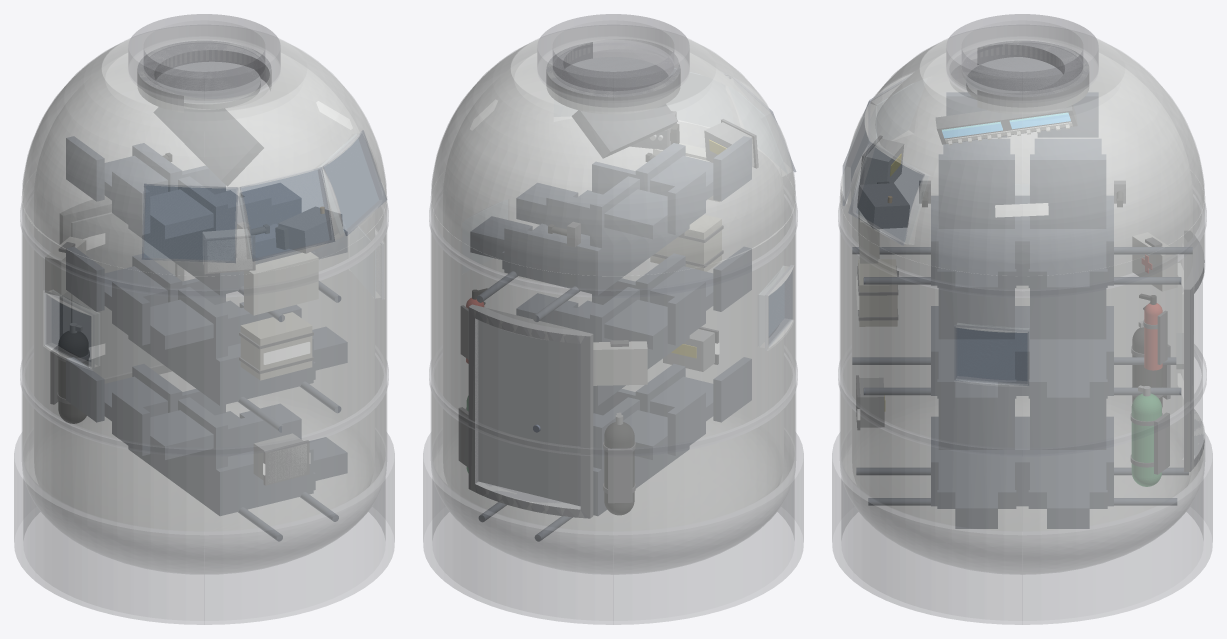
File: cmd07_mav_cabin_combined.glb
3 renders of one model, left to right at view 1: azimuth 30°, elevation 25°; view 2: azimuth 150°, elevation 25°; view 3: azimuth 270°, elevation 25°, orthographic.
Parts seen in each view (by area): view 1: pressure_vessel, ext_pressure_hull, ext_interface_skirt, ext_windows, seat_1, seat_3, ext_docking_port, seat_5, ext_frame_bands, seat_6, seat_2, hatch_door_1 (+14 smaller); view 2: ext_pressure_hull, pressure_vessel, ext_interface_skirt, hatch_door_1, seat_6, ext_docking_port, hatch_tunnel_1, ext_frame_bands, seat_5, seat_4, seat_3, seat_2 (+12 smaller); view 3: pressure_vessel, ext_pressure_hull, ext_interface_skirt, seat_6, seat_5, ext_docking_port, seat_3, seat_1, seat_2, seat_4, ext_windows, ext_frame_bands (+18 smaller).
Part boxes in pixels (<box>): pressure_vessel: <box>22,26,386,573</box>; ext_pressure_hull: <box>22,25,386,574</box>; ext_interface_skirt: <box>14,432,394,624</box>; ext_windows: <box>44,130,386,368</box>; seat_1: <box>112,390,347,541</box>; seat_3: <box>112,280,347,432</box>; ext_docking_port: <box>128,14,280,102</box>; seat_5: <box>112,170,347,321</box>; ext_frame_bands: <box>20,194,388,456</box>; seat_6: <box>66,136,301,261</box>; seat_2: <box>66,357,301,481</box>; hatch_door_1: <box>71,212,174,377</box>; ext_pressure_hull: <box>431,25,795,574</box>; pressure_vessel: <box>431,26,795,573</box>; ext_interface_skirt: <box>423,432,803,624</box>; hatch_door_1: <box>478,320,580,506</box>; seat_6: <box>470,170,705,321</box>; ext_docking_port: <box>537,14,689,102</box>; hatch_tunnel_1: <box>468,304,593,518</box>; ext_frame_bands: <box>429,194,797,456</box>; seat_5: <box>516,136,751,261</box>; seat_4: <box>533,280,705,432</box>; seat_3: <box>516,247,751,368</box>; seat_2: <box>479,390,705,541</box>; pressure_vessel: <box>840,26,1204,573</box>; ext_pressure_hull: <box>840,25,1204,574</box>; ext_interface_skirt: <box>832,432,1212,624</box>; seat_6: <box>1023,92,1192,307</box>; seat_5: <box>852,92,1022,307</box>; ext_docking_port: <box>946,14,1098,102</box>; seat_3: <box>852,288,1022,417</box>; seat_1: <box>856,399,1022,528</box>; seat_2: <box>1023,399,1188,528</box>; seat_4: <box>1023,288,1181,417</box>; ext_windows: <box>843,98,1028,385</box>; ext_frame_bands: <box>838,194,1206,456</box>.
Size of the model in its own units: 2.5 by 3.61 by 2.5.
